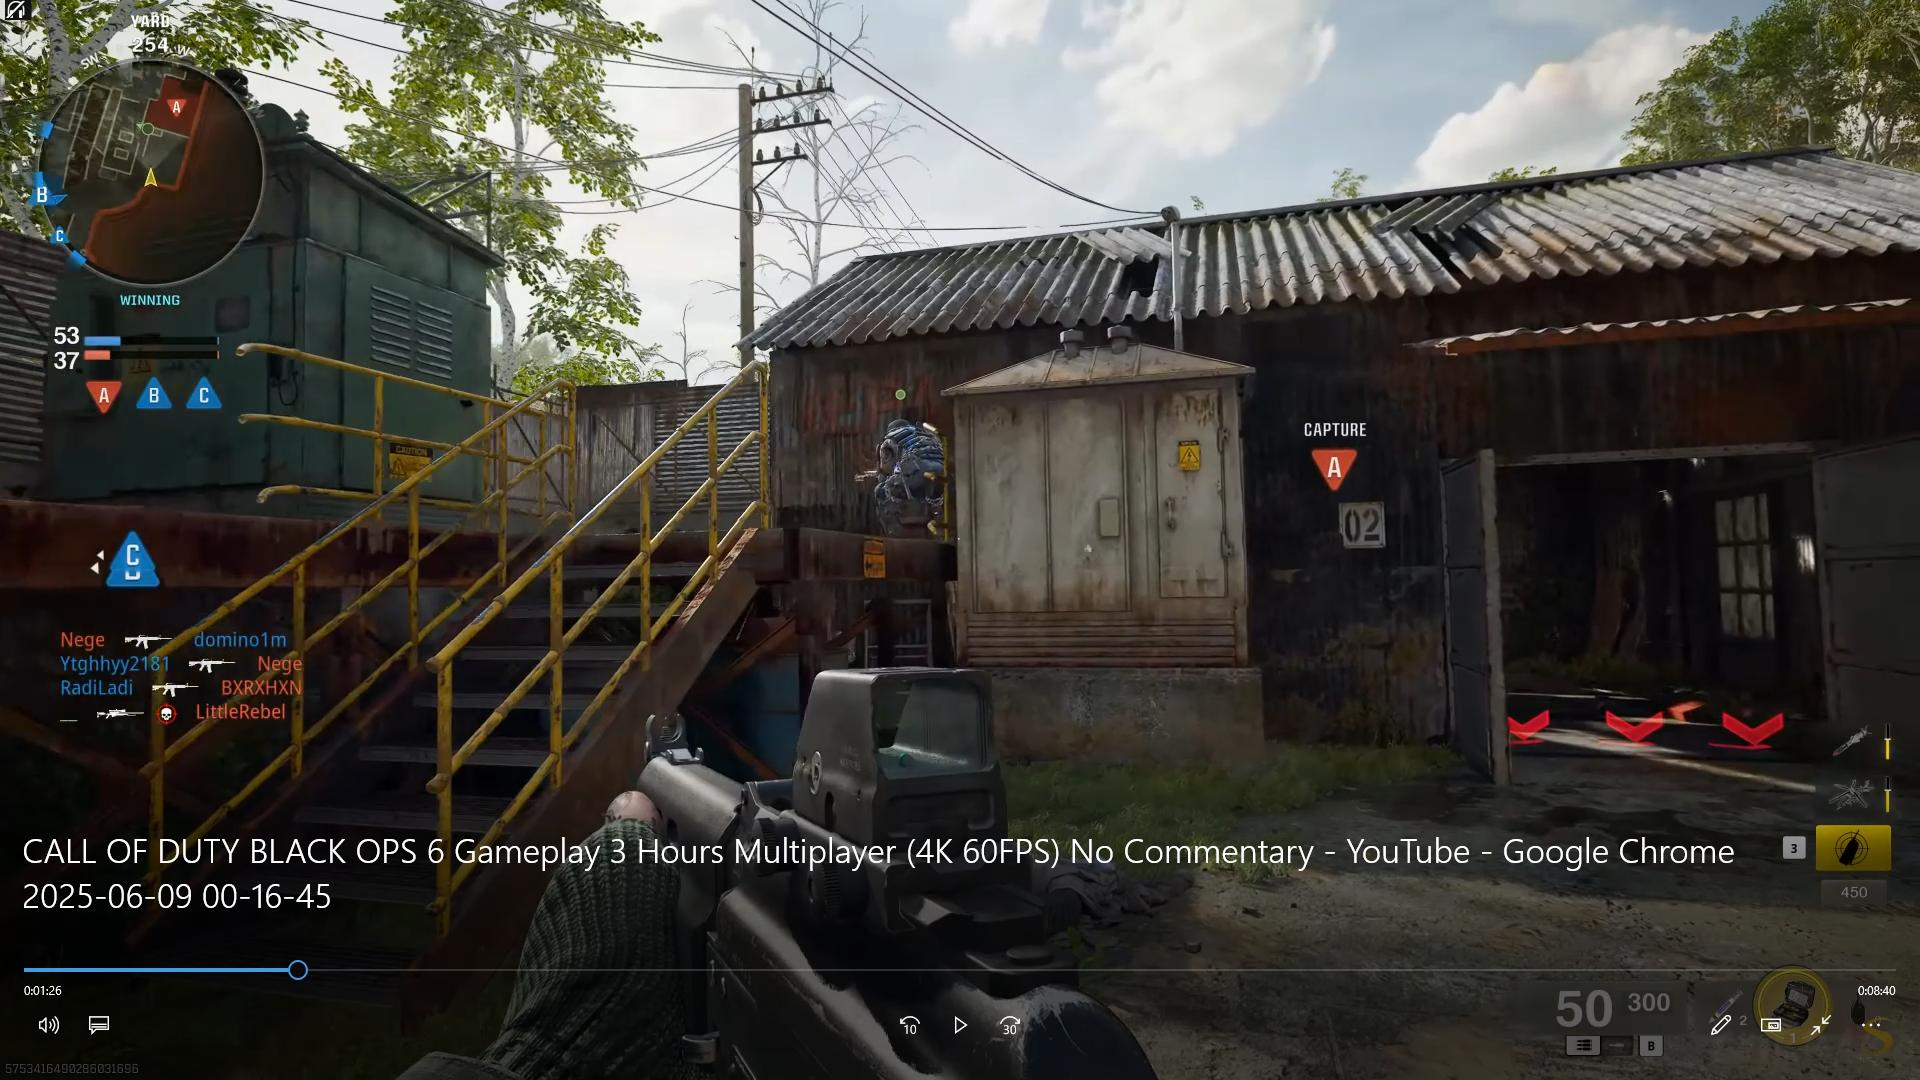Enemy: (858, 415, 942, 546)
